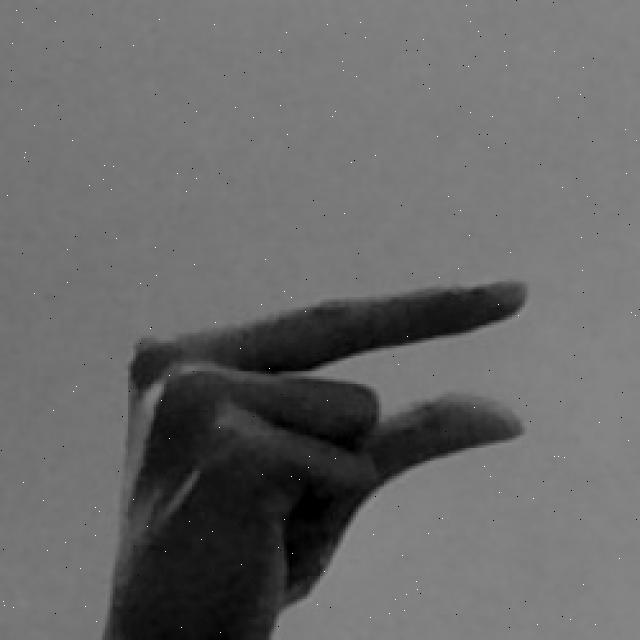G: (96, 276, 532, 640)
